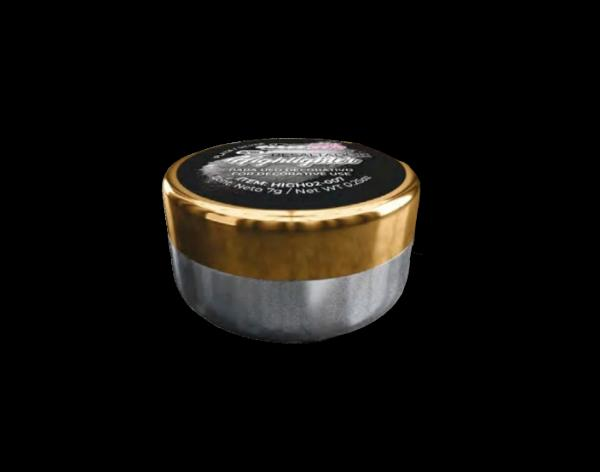metal: (163, 139, 421, 344)
